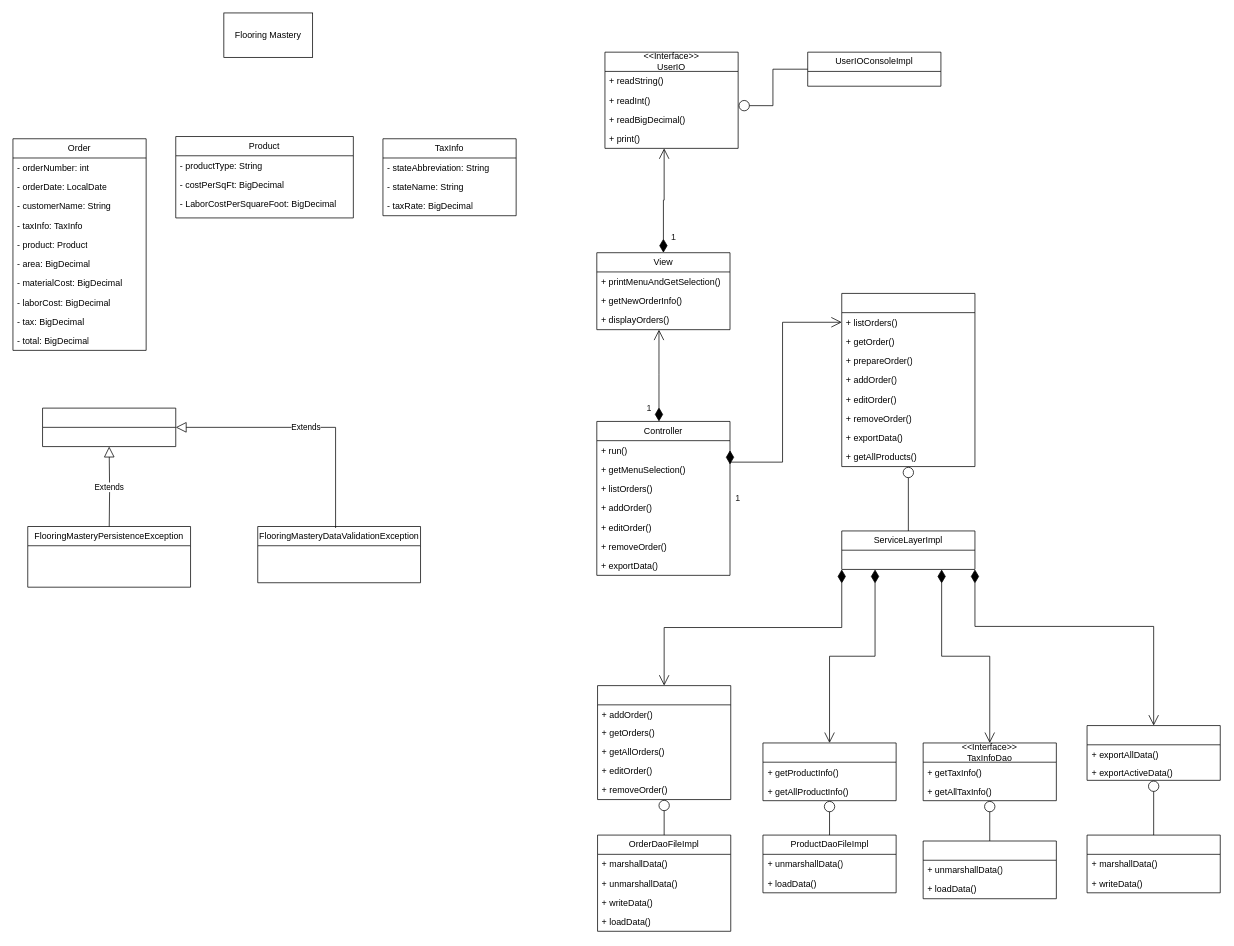
This 1234x946 diagram has some shape labels left out. The shapes that lost their labels are listed below. From the top down, each one's box as (x1, y1, x2, y2) in pixels, then its label:
(841, 293, 975, 467): <<Interface>> ServiceLayer
(42, 407, 176, 447): Exception
(597, 685, 731, 800): <<Interface>> Order Dao
(1086, 725, 1220, 780): <<Interface>> ExportDao
(762, 742, 896, 801): <<Interface>> Product Dao
(922, 840, 1056, 899): TaxInfoDaoFileImpl
(1086, 834, 1220, 893): ExportDaoFileImpl
